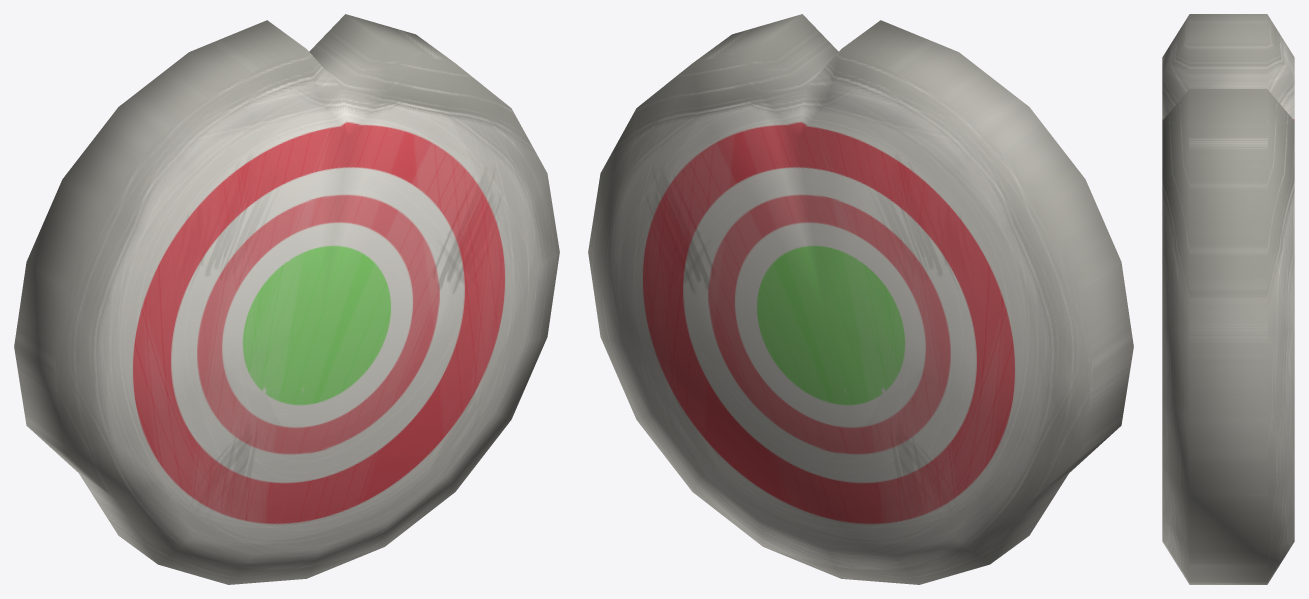
The model's file is Target.fbx.
3 renders of one model, left to right at view 1: azimuth 30°, elevation 25°; view 2: azimuth 150°, elevation 25°; view 3: azimuth 270°, elevation 25°, orthographic.
Visible parts, largest first — view 1: Target; view 2: Target; view 3: Target.
Boxes of the visible parts, <box> form: Target: <box>14,14,559,584</box>; Target: <box>588,14,1133,584</box>; Target: <box>1162,14,1294,584</box>.
Bounding box in the file's own units: 200 × 200 × 45.96.
